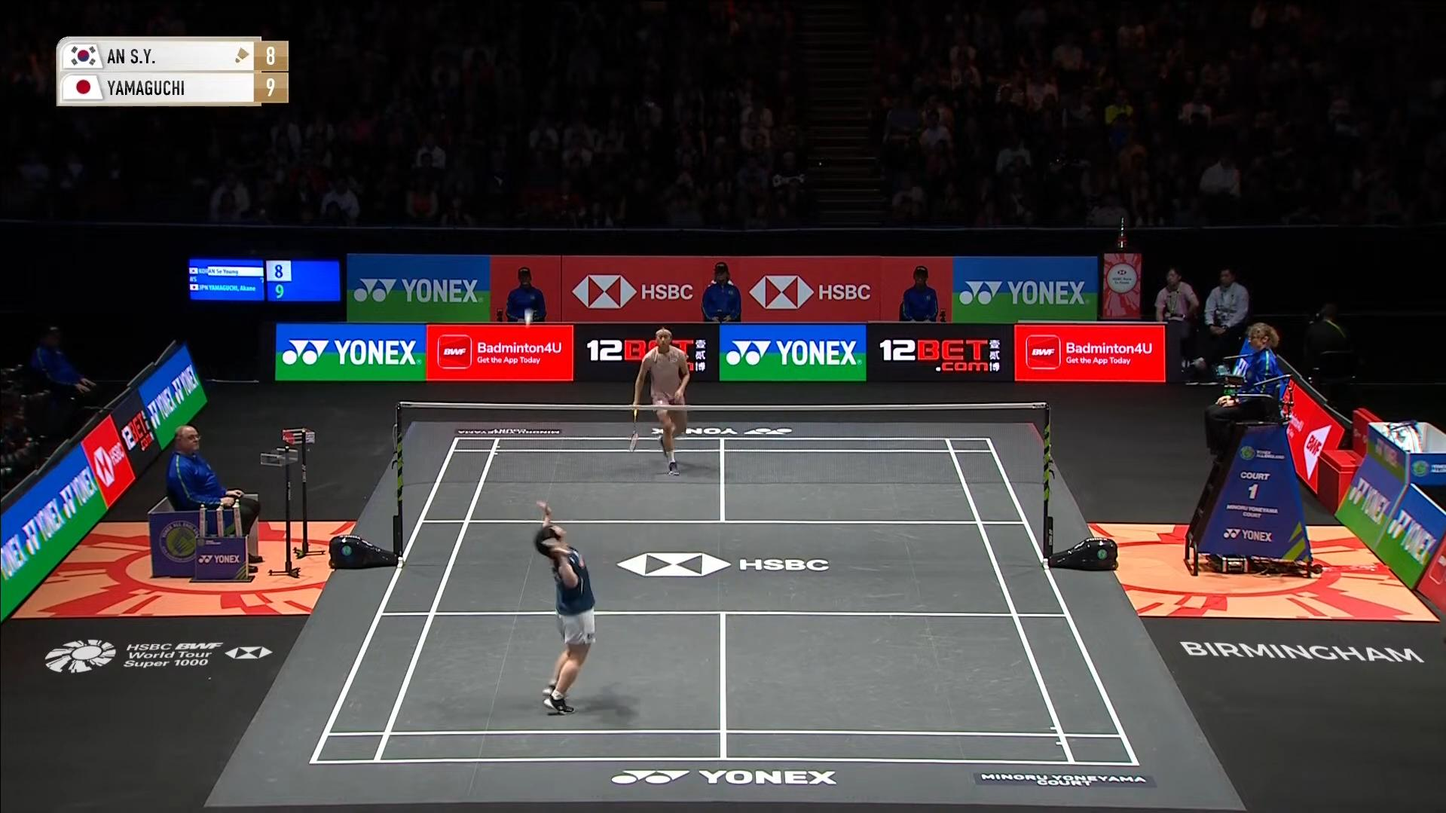Player 1: (624, 317, 708, 477)
Player 2: (524, 496, 614, 718)
shuttle: (518, 303, 539, 330)
